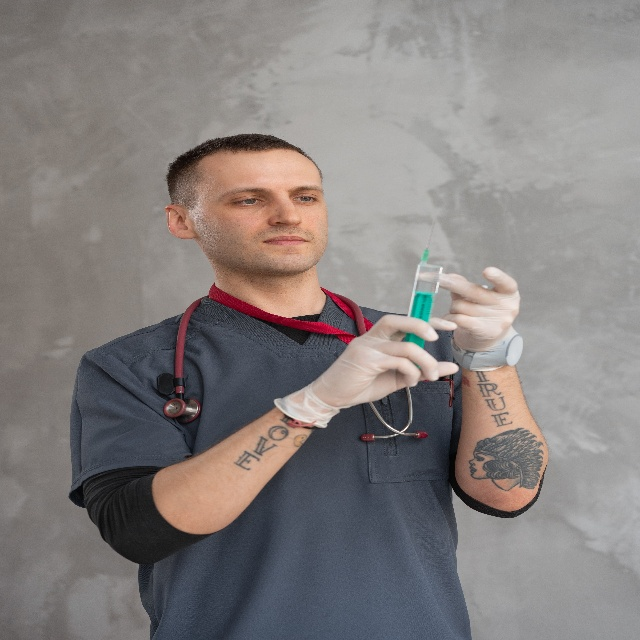Guantes: (274, 315, 458, 430), (417, 267, 524, 372)
Sin_guantes: (314, 314, 459, 407), (420, 267, 520, 352)
